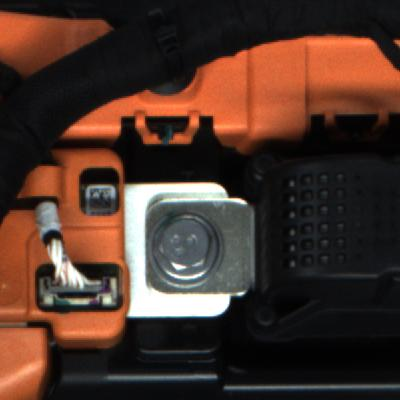nut_b: (144, 210, 224, 288)
